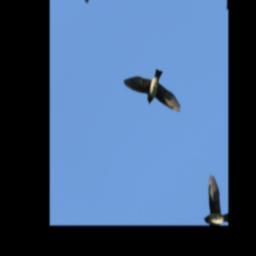Swallow: (124, 48, 184, 140)
